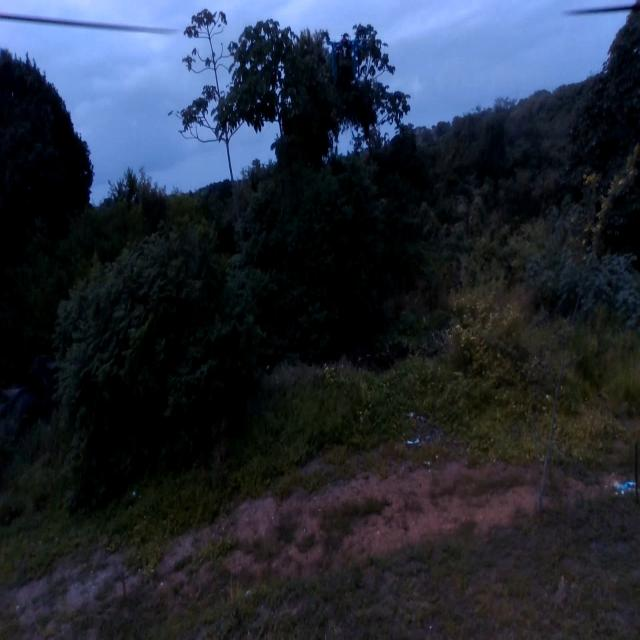-uav-: (320, 19, 373, 92)
